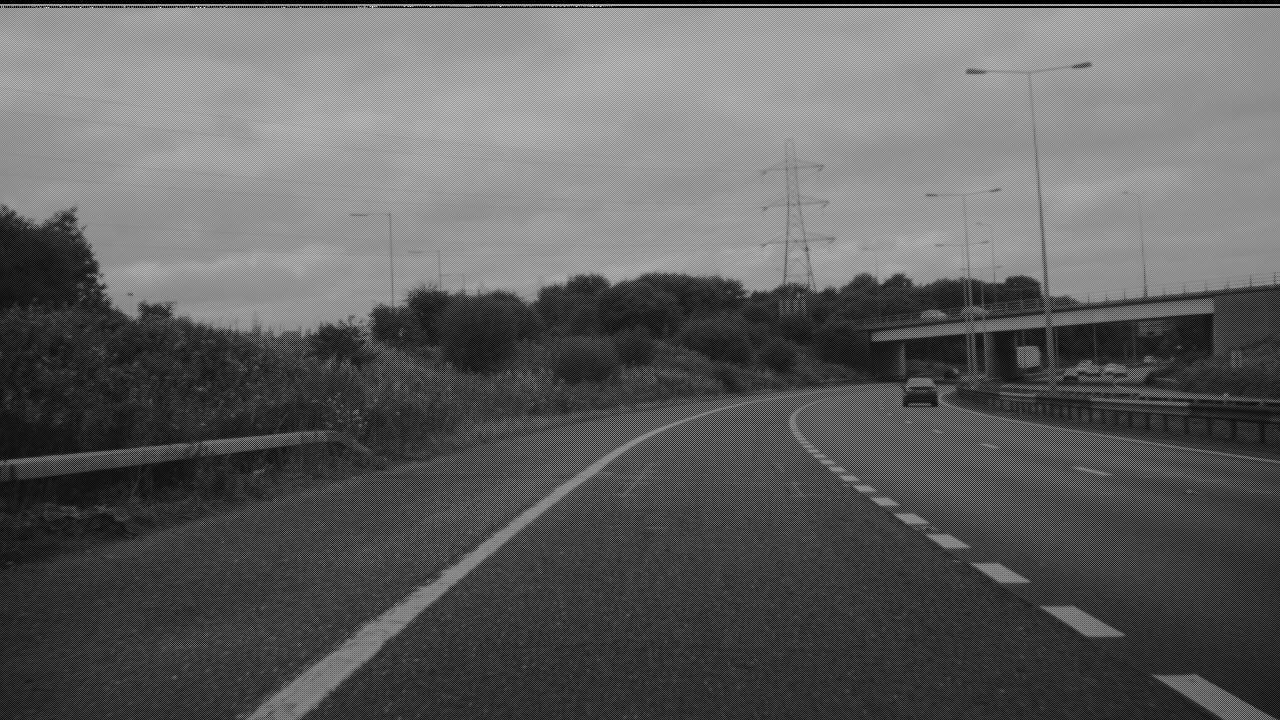pole: (1026, 66, 1056, 390), (960, 189, 979, 380)
